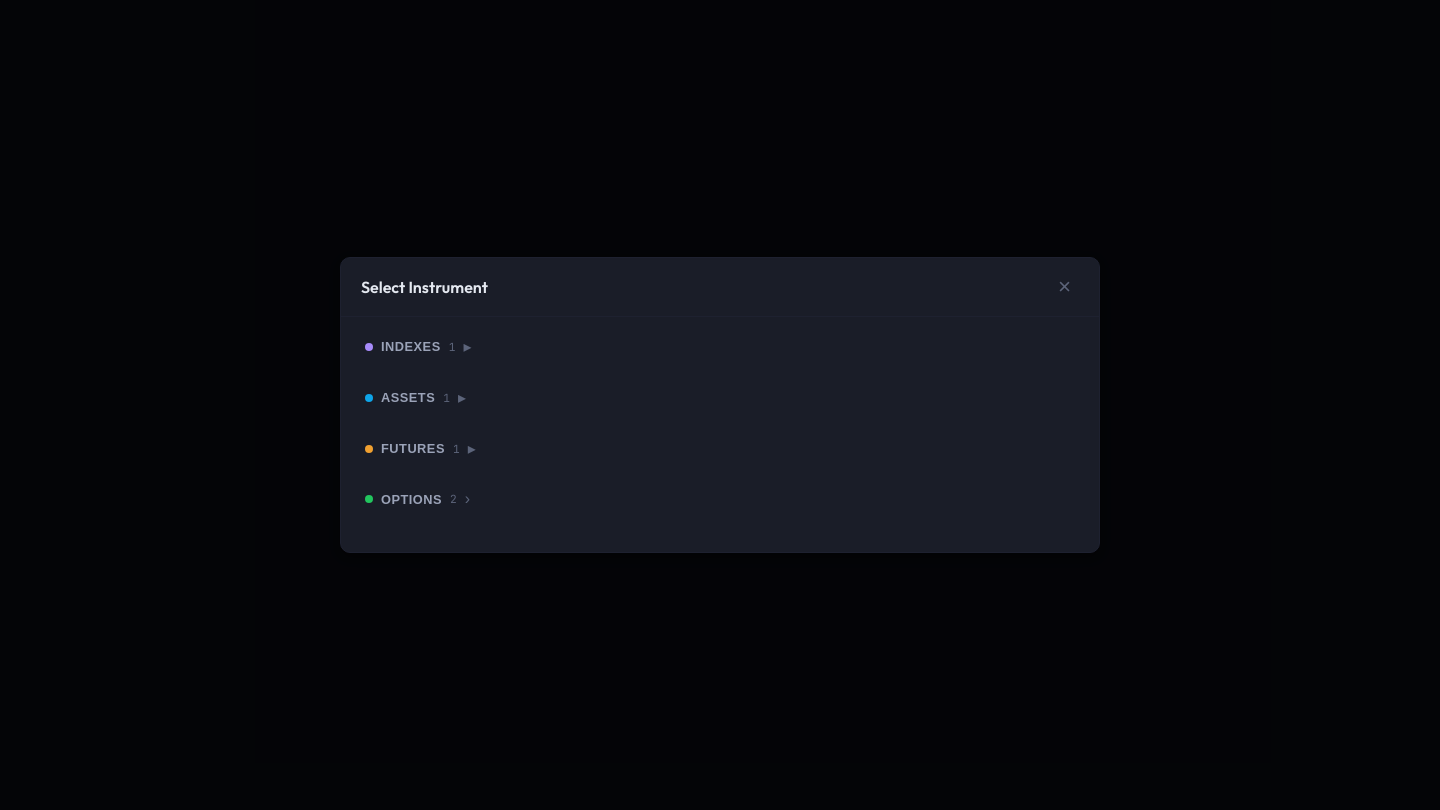
Test: <InstrumentPickerModal> › back button returns from options drill-down to category list
Expected: the text "Indexes" is shown, [381,339,441,354]
Expected: the text "Options" is shown, [381,492,442,507]
Step 1. Click the button with test id "picker-options-toggle" → click(412, 499), box [361,482,1079,516]
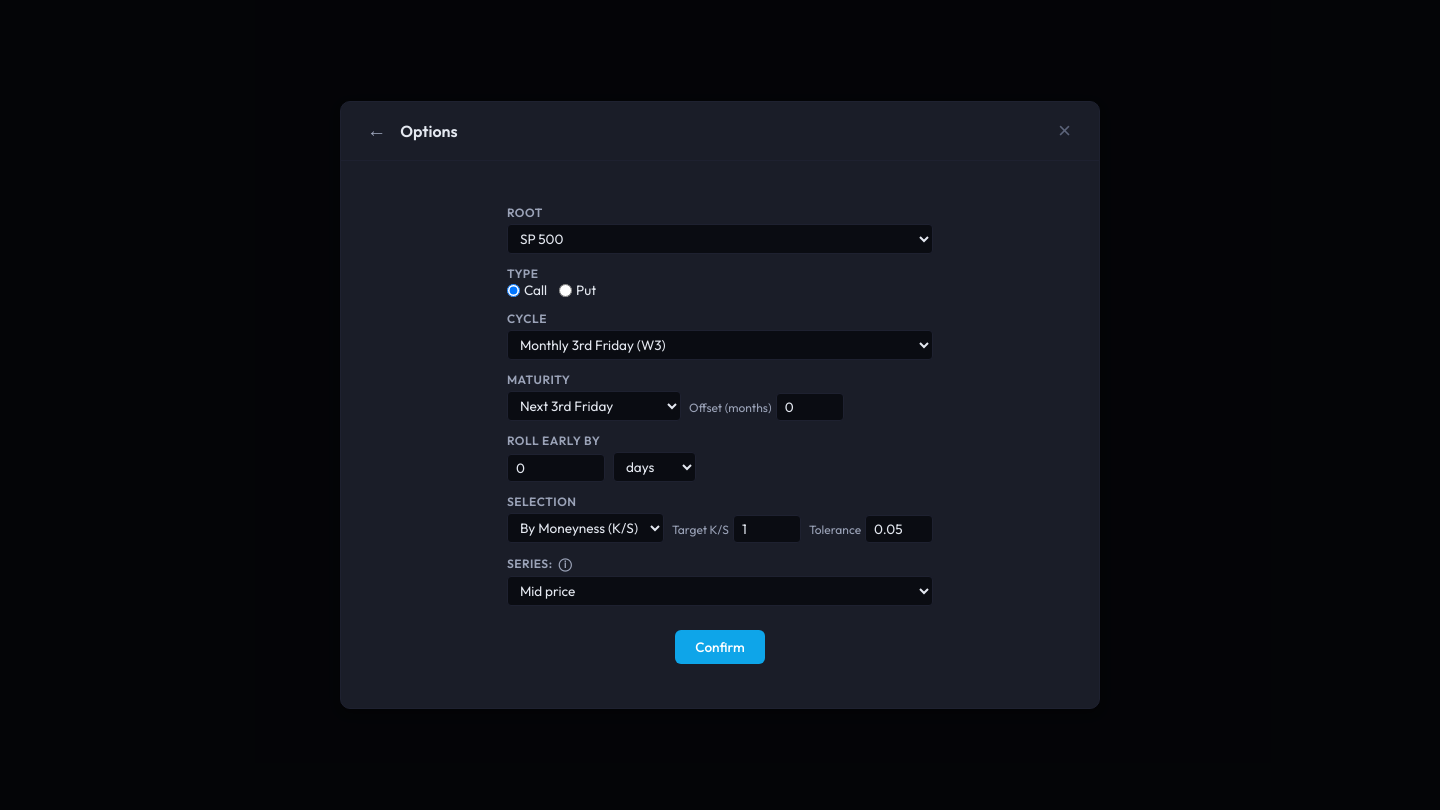
Expected: the element with test id "option-stream-form" is shown, [507,197,933,614]
Expected: the heading "Options" is shown, [400,121,458,141]
Back button → leaves drill-down
Step 2. Click the button "←" → click(377, 131), box [361,118,392,144]
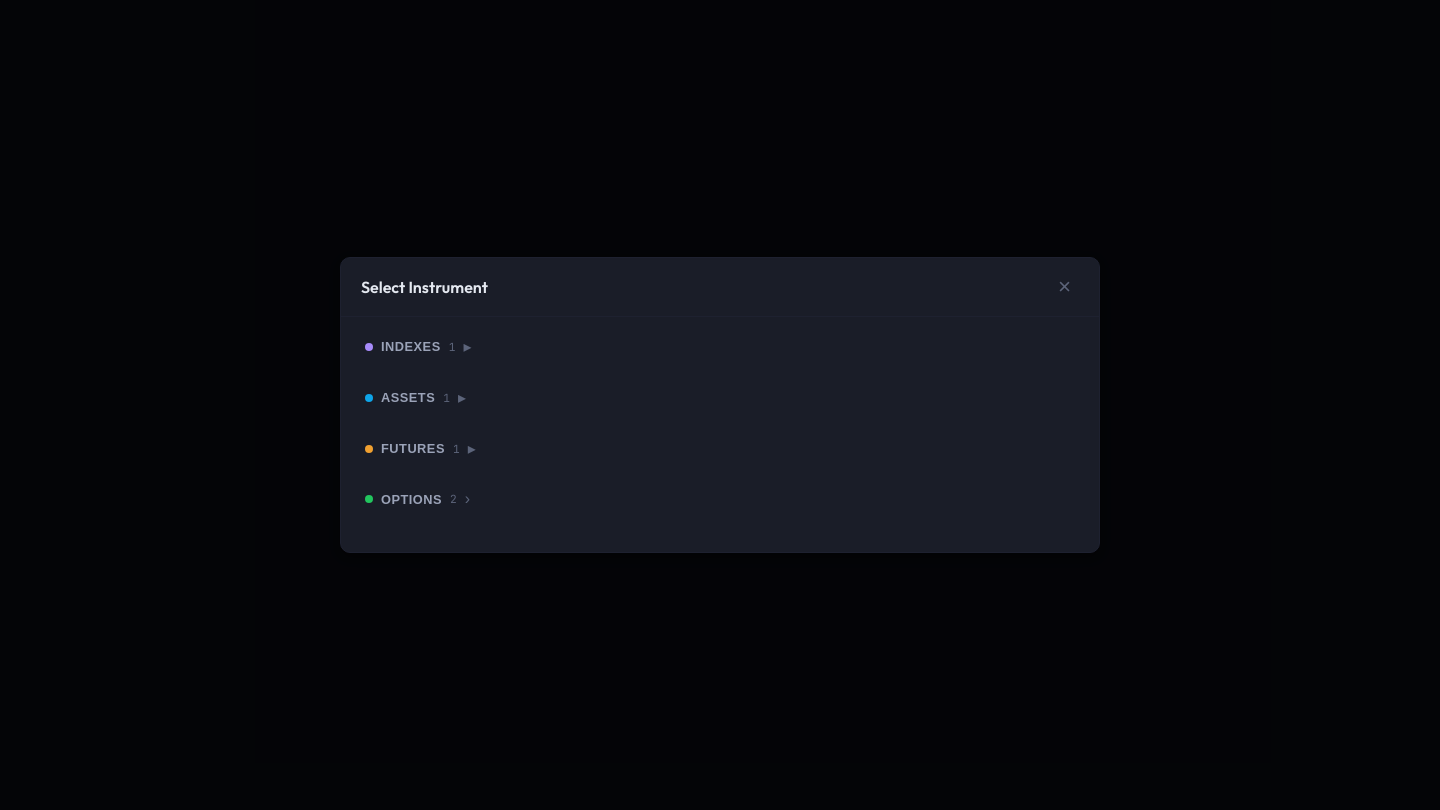
Expected: the element with test id "option-stream-form" is gone
